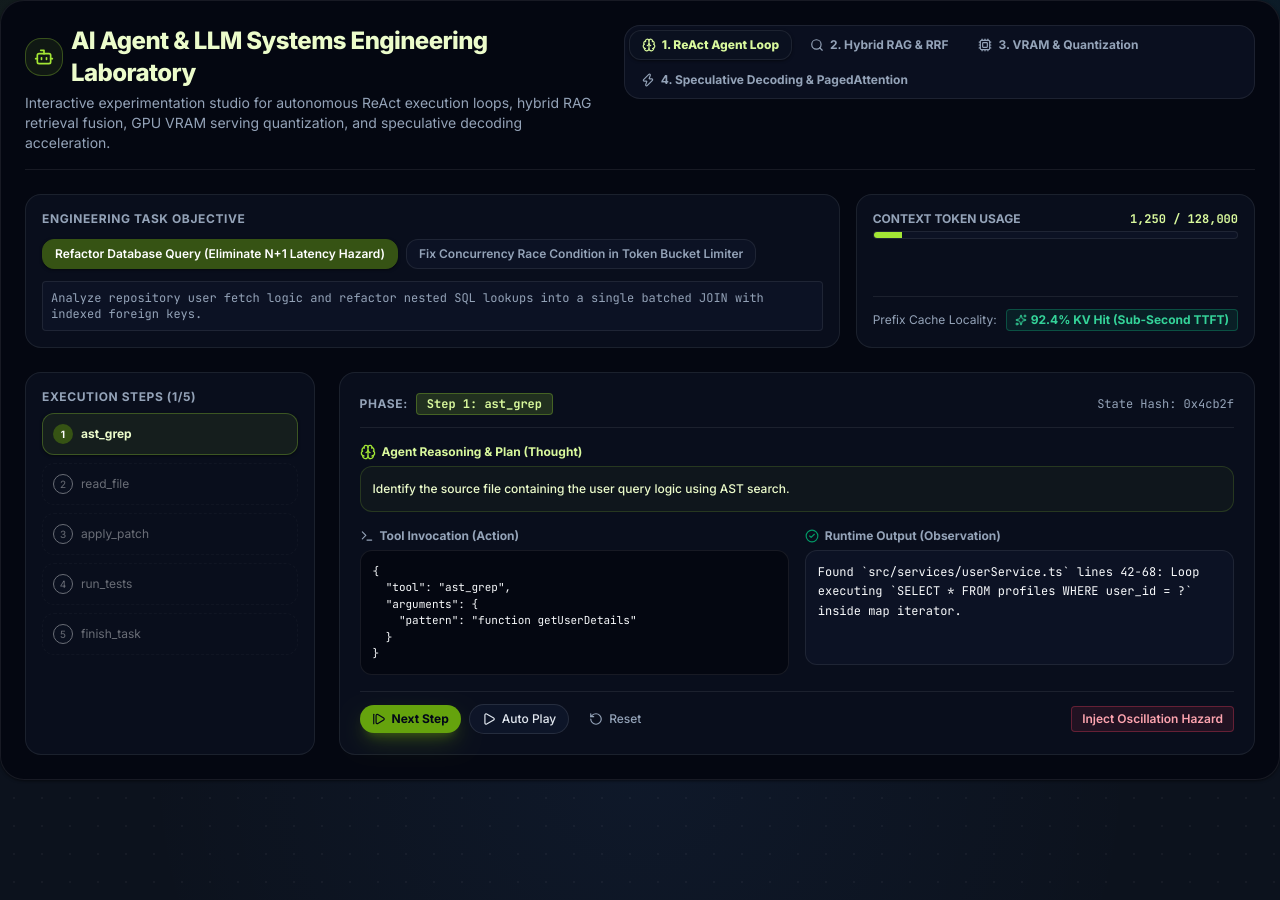
Scenario: AiAgentLabSandbox Component › switches to Speculative Decoding tab and verifies acceleration calculations and block table
The image size is (1280, 900).
Click the button "4. Speculative Decoding & PagedAttention" at (774,80), box [629, 66, 920, 94]
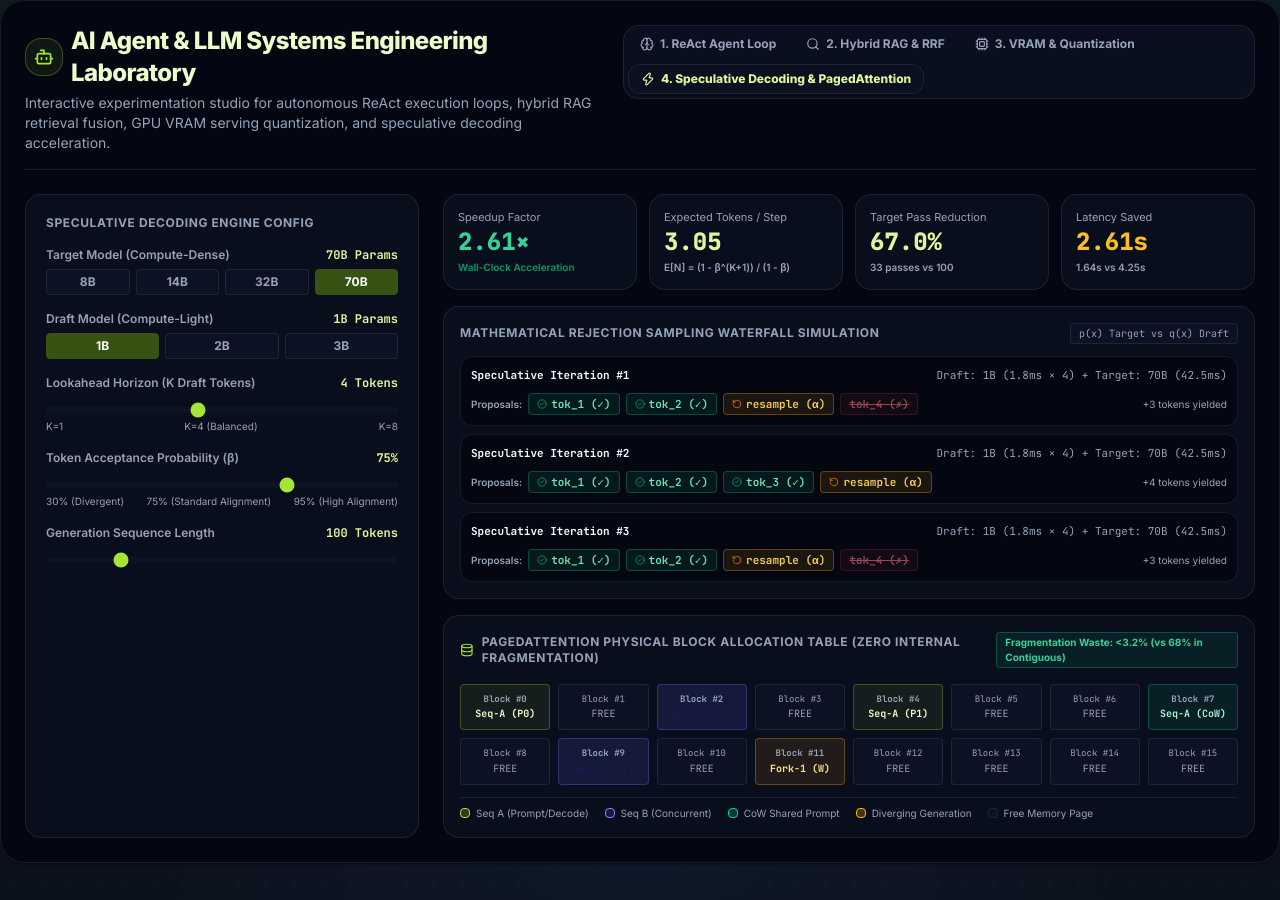
Now the text "Speculative Decoding Engine Config" is shown, box [46, 215, 314, 230]
Now the text "Speedup Factor" is shown, box [458, 210, 541, 224]
Now the text "Expected Tokens / Step" is shown, box [664, 210, 787, 224]
